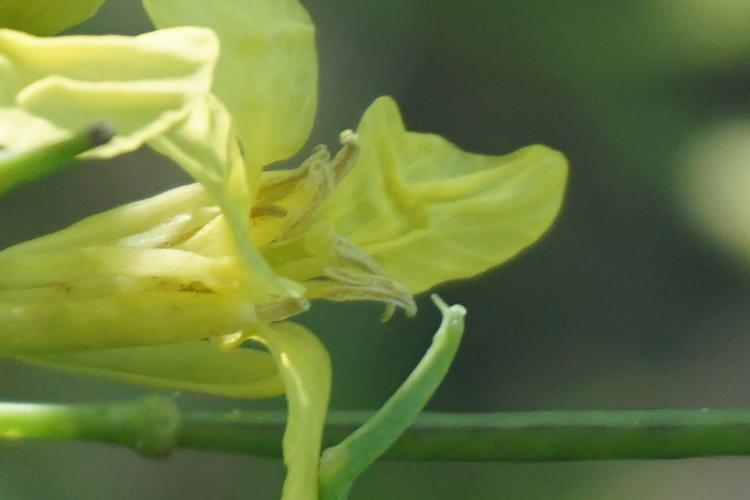yellow: (10, 5, 588, 354)
